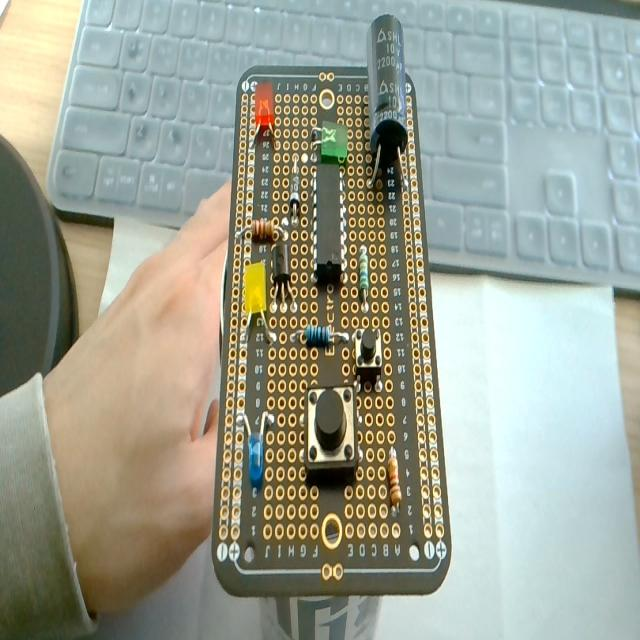Electrolytic capacitor: (359, 17, 408, 201)
IC: (314, 162, 344, 281)
diode: (289, 156, 300, 222)
led: (238, 254, 276, 348), (239, 409, 275, 489), (304, 115, 354, 159), (253, 83, 277, 145)
resistor: (386, 450, 402, 508), (305, 324, 330, 348), (358, 245, 369, 298), (252, 219, 276, 242)
switch: (305, 384, 359, 473), (354, 327, 382, 388)
transistor: (272, 238, 292, 302)
